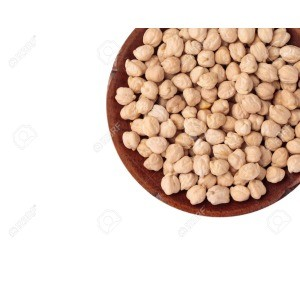beans_brain food: (168, 56, 282, 150)
